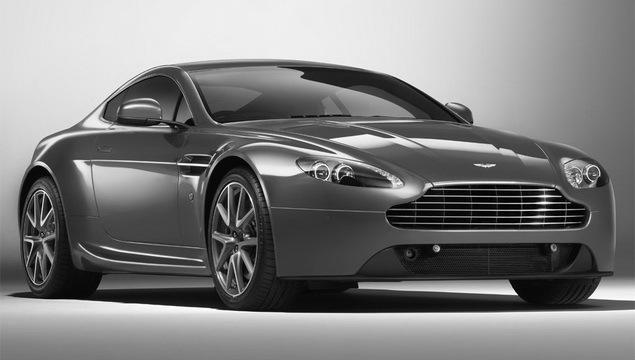car: (14, 53, 622, 310)
